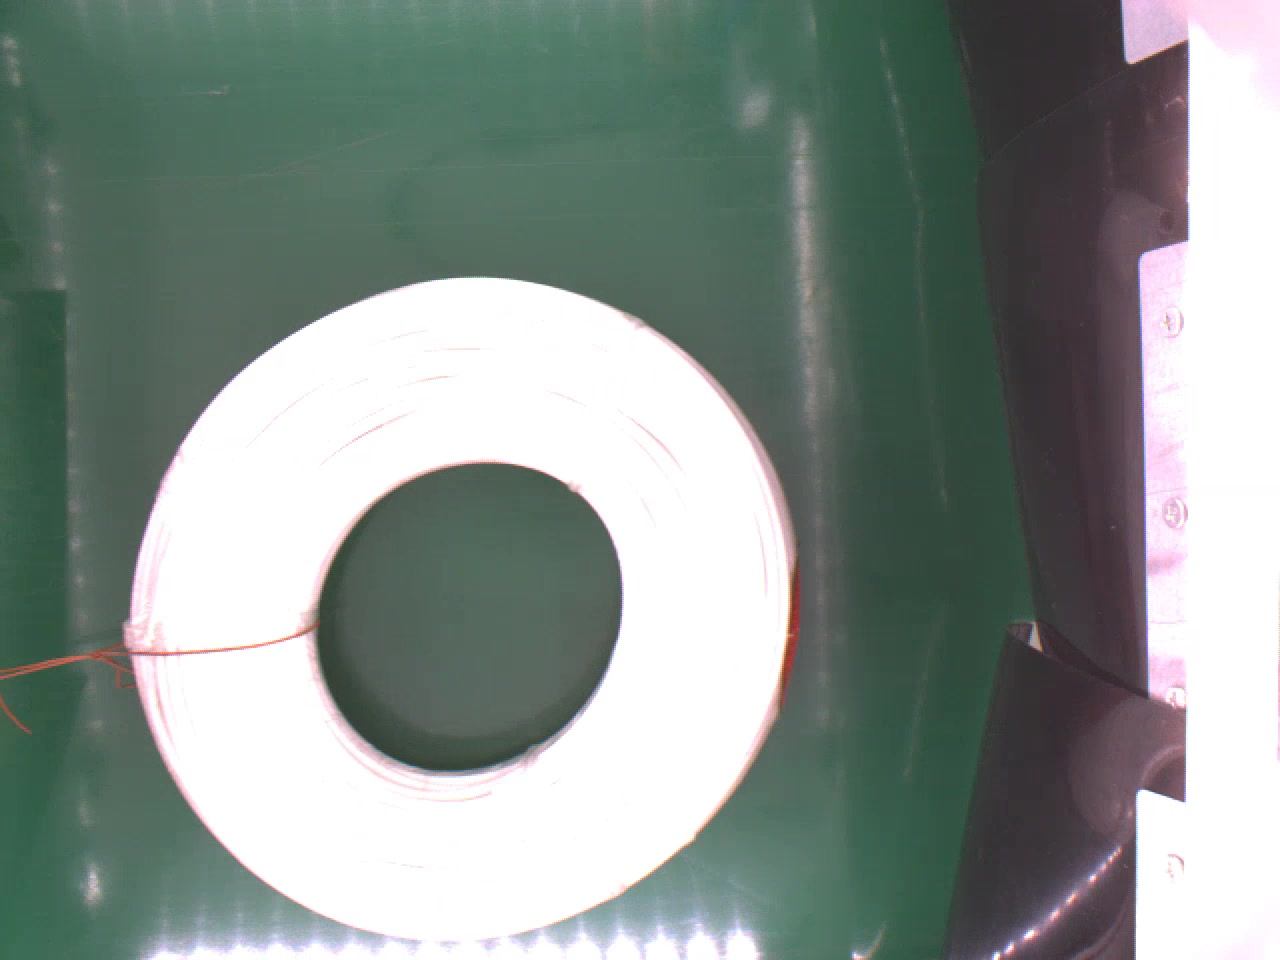white: (126, 270, 802, 942)
